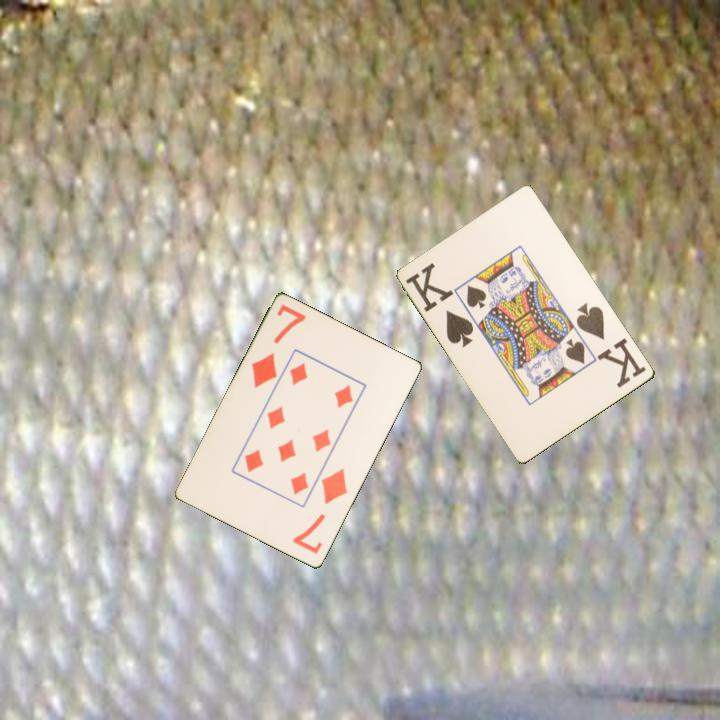7d: (289, 465, 351, 558), (248, 301, 309, 391)
Ks: (573, 299, 650, 391), (402, 259, 477, 351)
